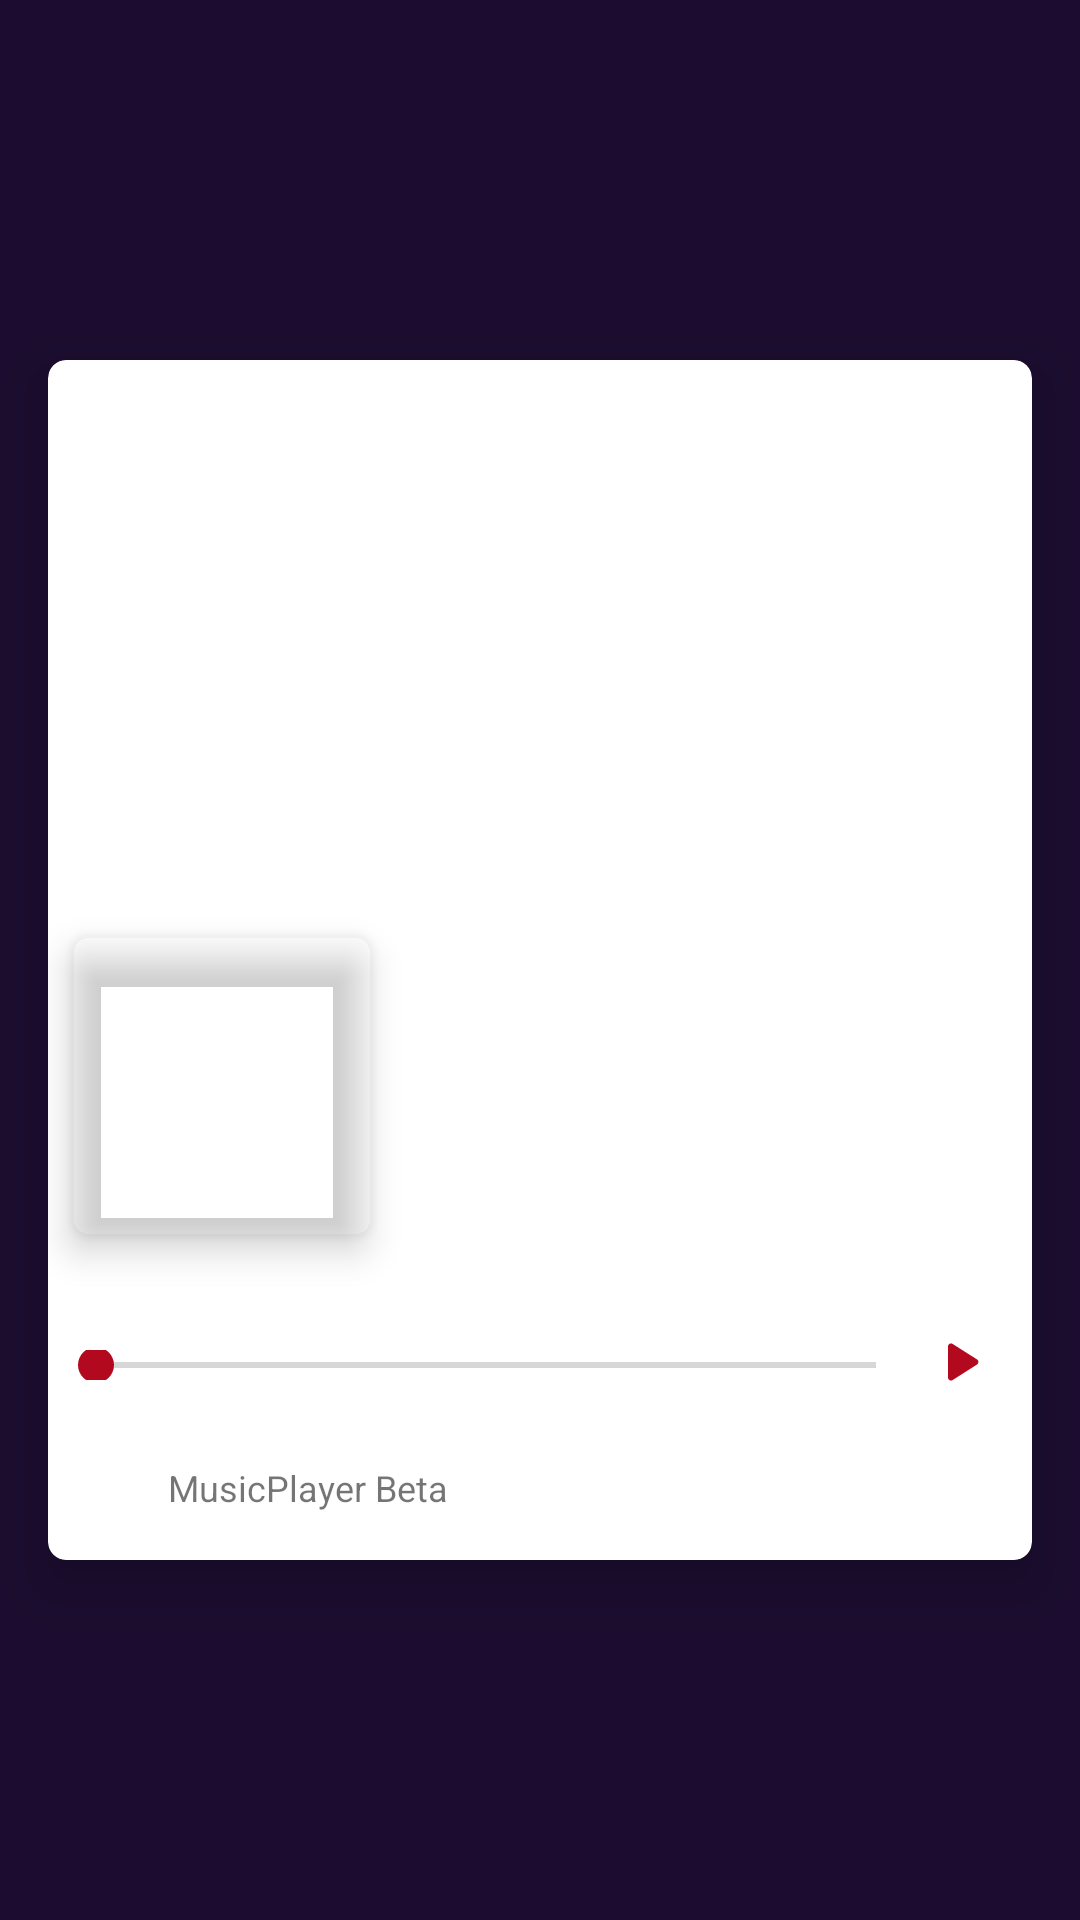

Screen size 1080px×1920px. Icon name, then its center in pixels as (x=x, y=y):
play pause: (x=963, y=1362)
